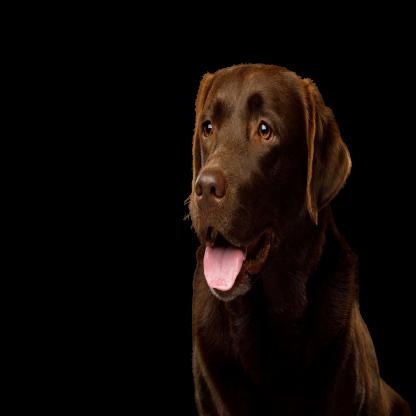dog: (186, 63, 414, 416)
